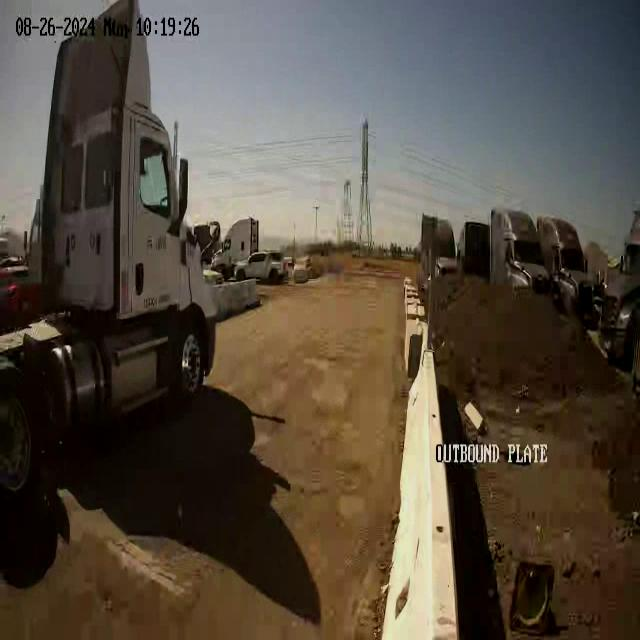BOBTAIL: (1, 1, 262, 492)
